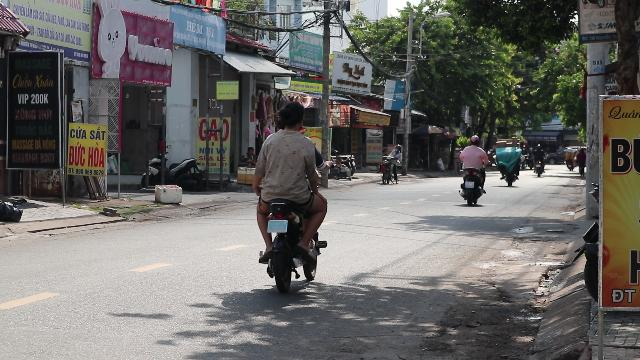motorcyclist: (250, 99, 332, 292)
nohelmet: (278, 102, 306, 131), (268, 220, 286, 232)
